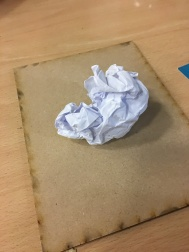paper_white: (45, 65, 156, 150)
